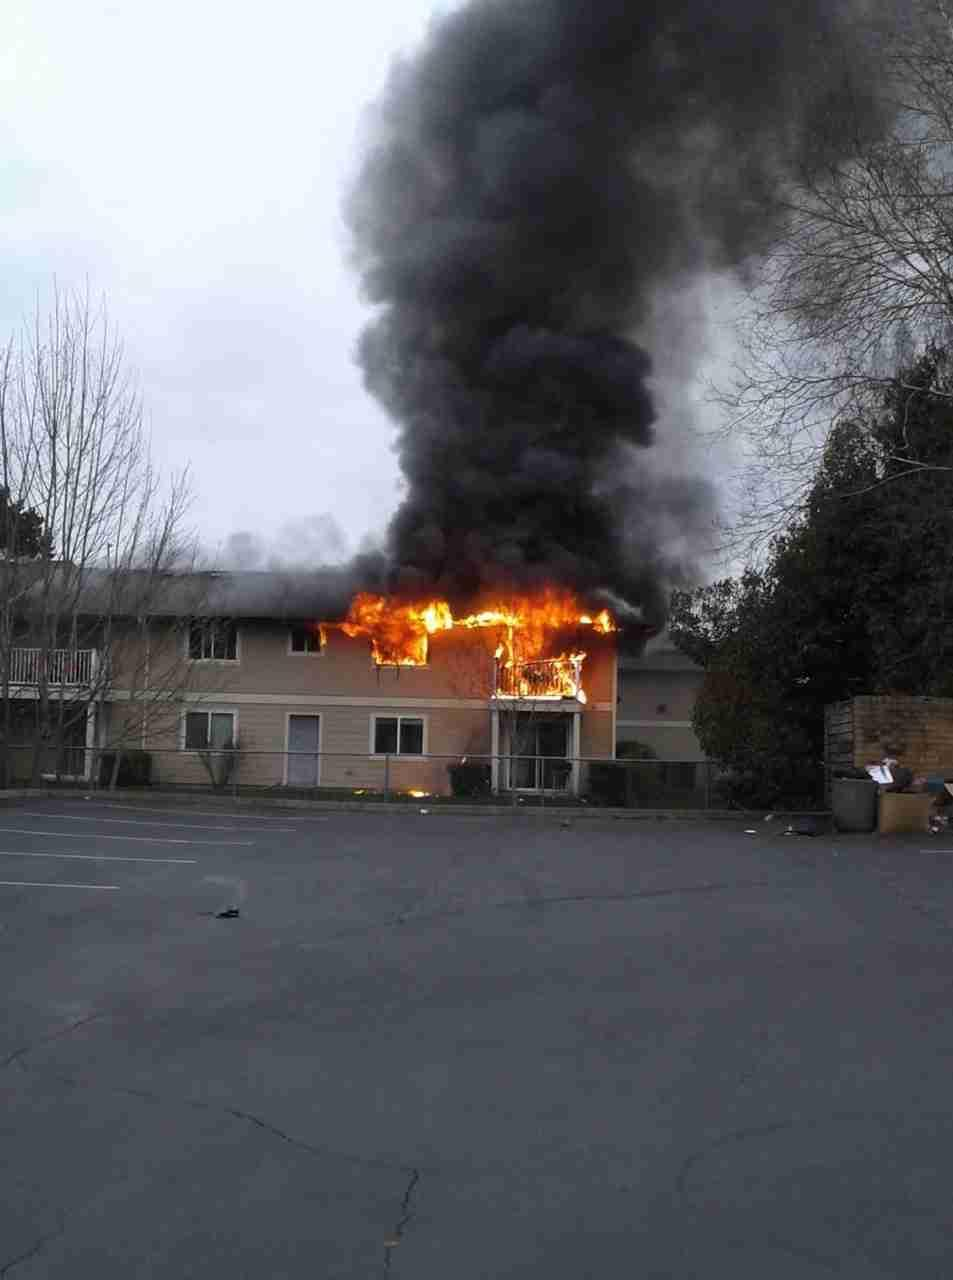Fire: (325, 566, 650, 718)
